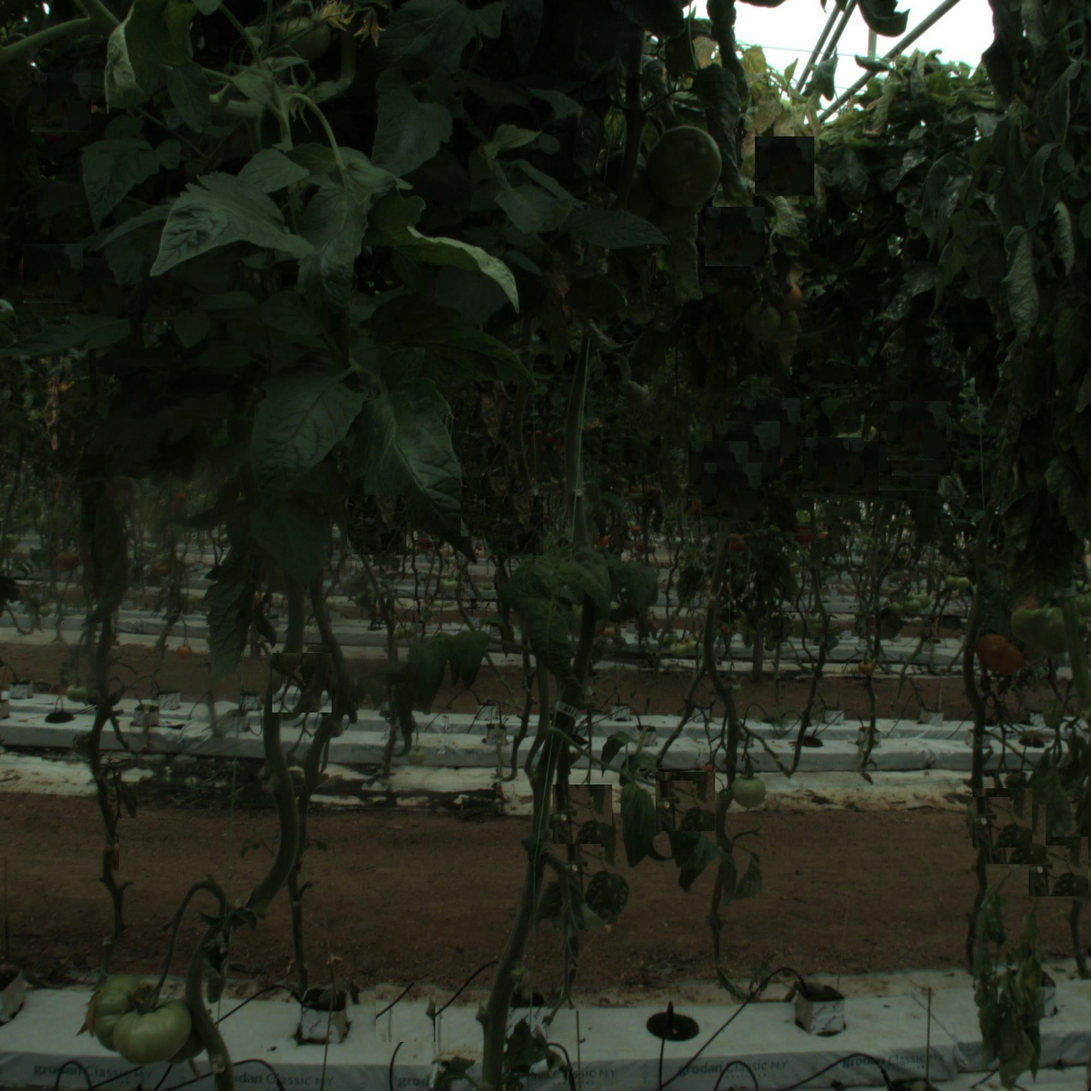semi-ripe: (975, 630, 1026, 680)
unripe: (641, 126, 724, 209), (115, 986, 189, 1060), (733, 773, 768, 808)
